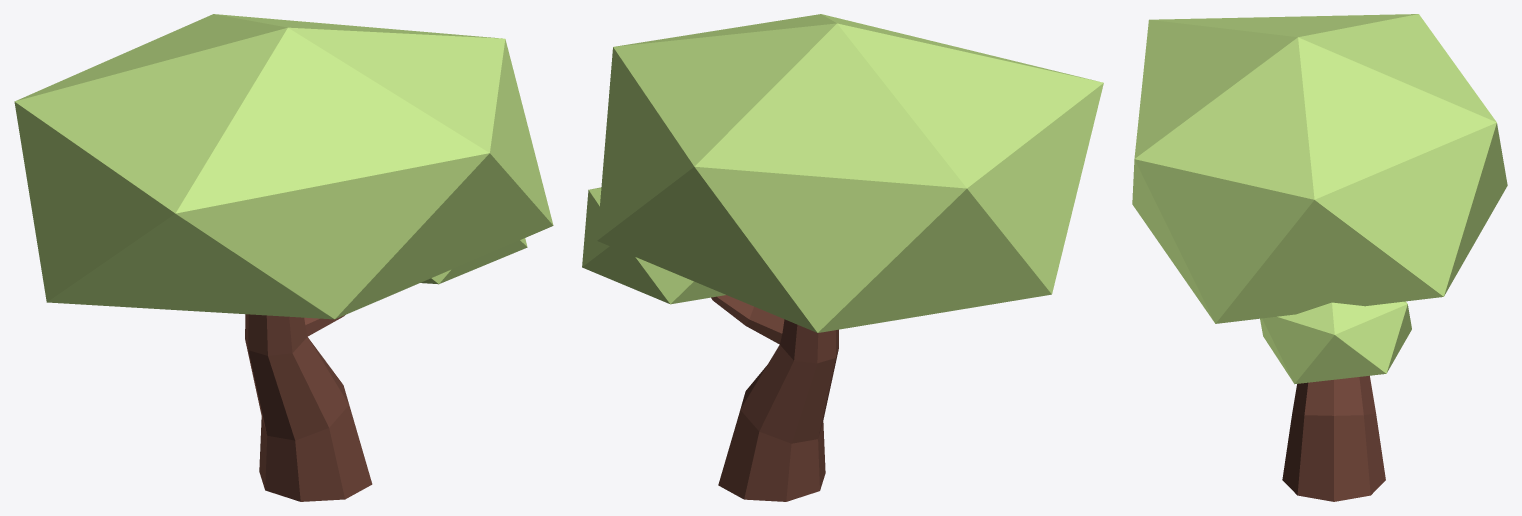
File: bush_2.glb
3 renders of one model, left to right at view 1: azimuth 30°, elevation 25°; view 2: azimuth 150°, elevation 25°; view 3: azimuth 270°, elevation 25°, orthographic. The views are drawn at different scales.
Parts seen in each view (by area): view 1: Icosphere.001; view 2: Icosphere.001; view 3: Icosphere.001.
Boxes of the visible parts, x1,y1,x2,y2 form: Icosphere.001: (14,14,553,501); Icosphere.001: (582,14,1103,501); Icosphere.001: (1132,14,1507,501).
Size of the model in its own units: 1.25 by 1.2 by 0.9675.
